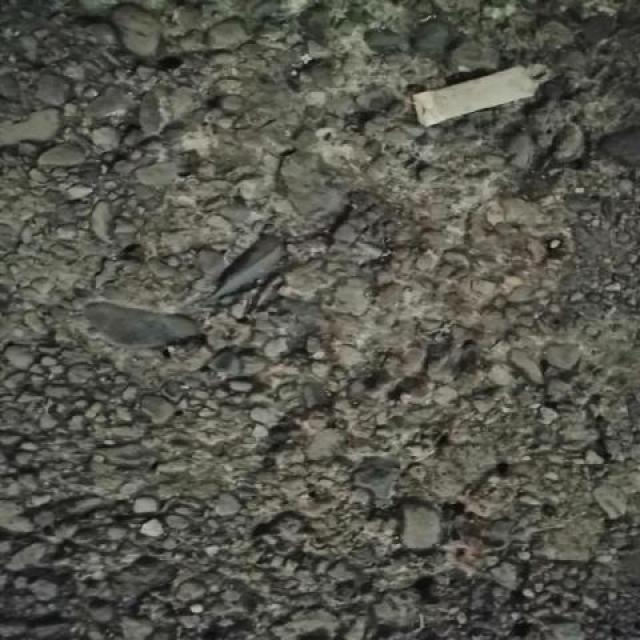non-organic waste: (407, 60, 542, 133)
